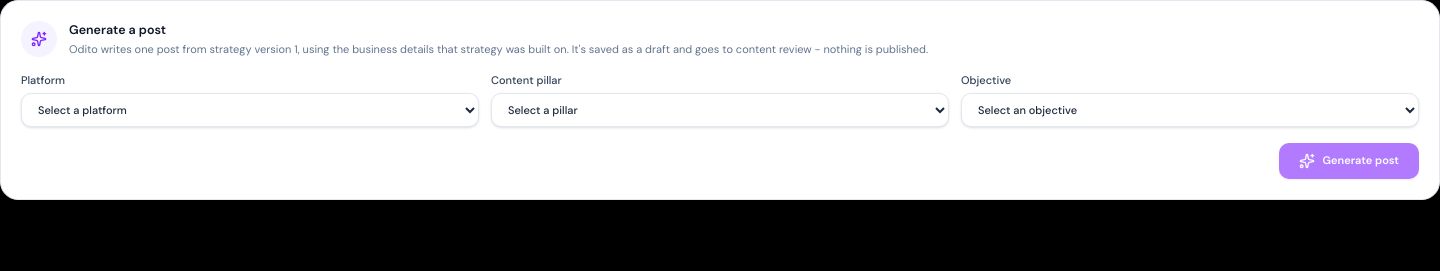
Test case: Single-post generator - failures are the server's, never faked › a refused start (409 PLATFORM_NOT_CONNECTED) shows the server's own message and creates no result
The image size is (1440, 271).
Check: the button with test id "generate-post-button" is shown, box x1=1279 y1=143 x2=1419 y2=179
Select "Facebook" in the dropdown with test id "generator-platform": (250, 110) x1=21 y1=93 x2=479 y2=127
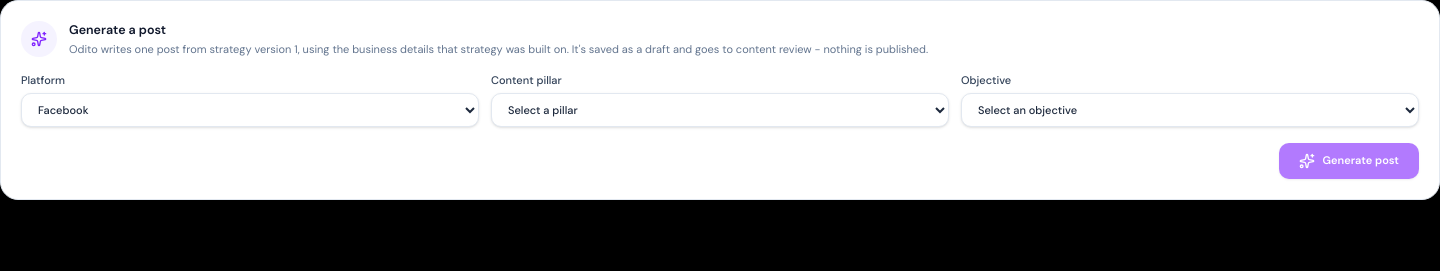
Select "Dental tips" in the dropdown with test id "generator-pillar": (720, 110) x1=491 y1=93 x2=949 y2=127
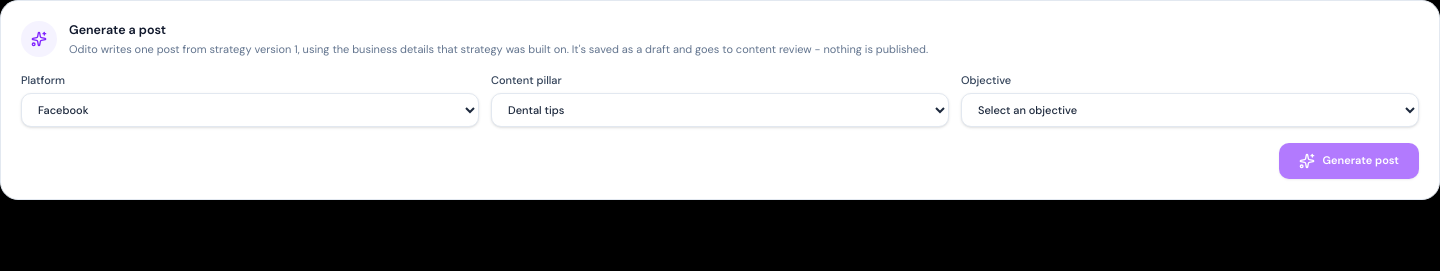
Select "Educational" in the dropdown with test id "generator-objective": (1190, 110) x1=961 y1=93 x2=1419 y2=127
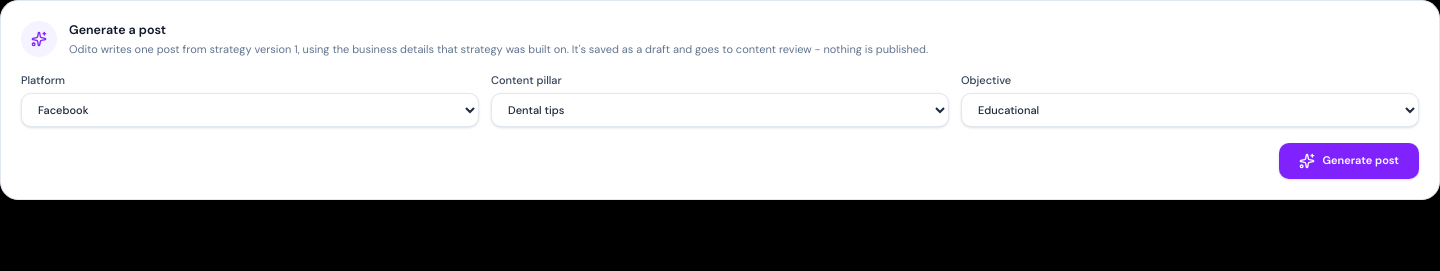
Click the button with test id "generate-post-button": (1349, 161) x1=1279 y1=143 x2=1419 y2=179
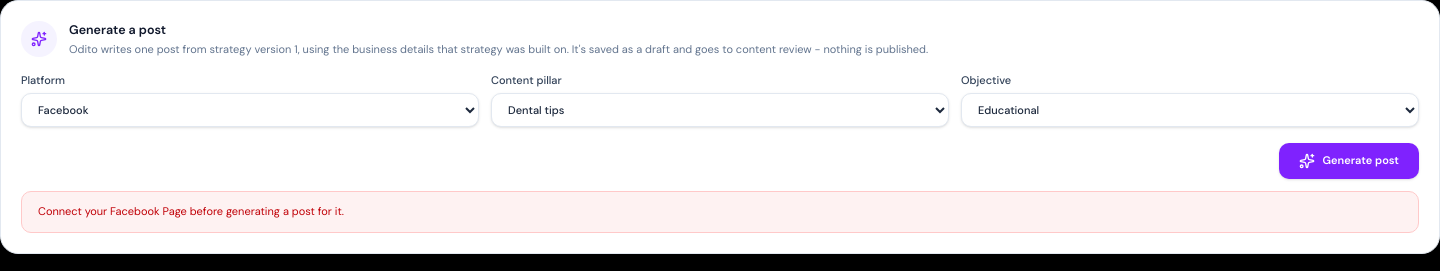
Check: the button with test id "generate-post-button" is enabled, box x1=1279 y1=143 x2=1419 y2=179
Check: the message with test id "generator-start-error" reads "Connect your Facebook Page before generating a post for it.", box x1=38 y1=204 x2=344 y2=218
